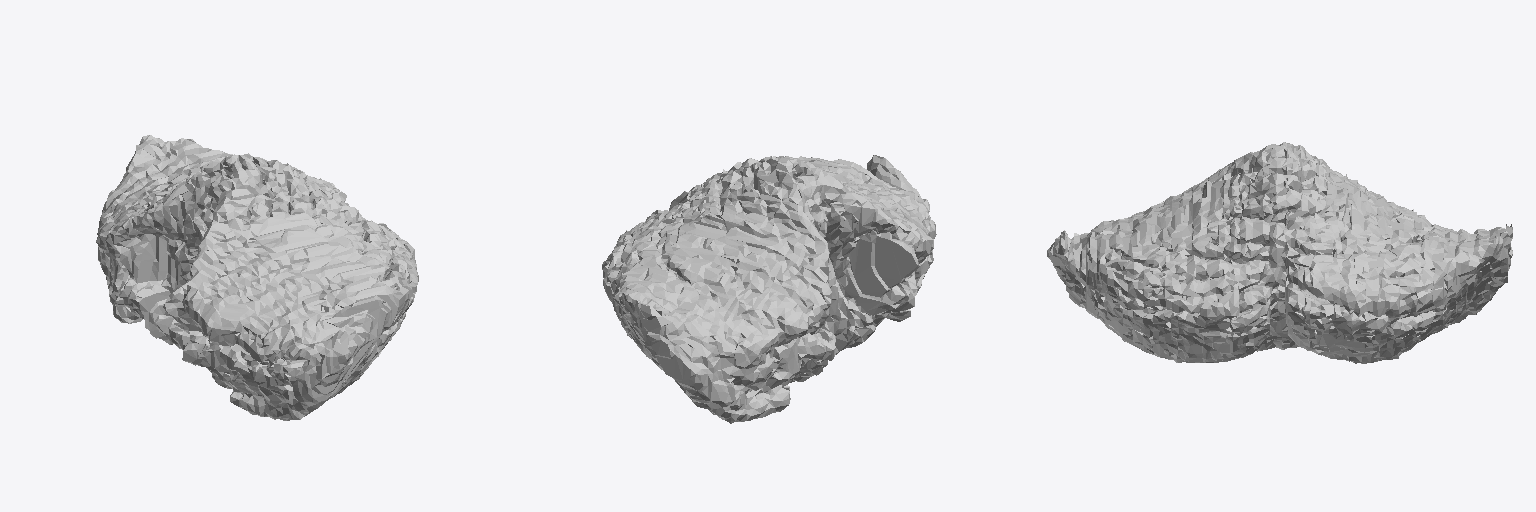
Rendered from cerebellum.obj.
3 renders of one model, left to right at view 1: azimuth 30°, elevation 25°; view 2: azimuth 150°, elevation 25°; view 3: azimuth 270°, elevation 25°, orthographic.
Parts seen in each view (by area): view 1: Cerebellum_cerebellum; view 2: Cerebellum_cerebellum; view 3: Cerebellum_cerebellum.
Boxes of the visible parts, box(x1,y1,x2,y2) form: Cerebellum_cerebellum: box(96, 135, 418, 420); Cerebellum_cerebellum: box(602, 155, 936, 423); Cerebellum_cerebellum: box(1047, 142, 1512, 363).
Bounding box in the file's own units: 96.66 × 79.03 × 161.